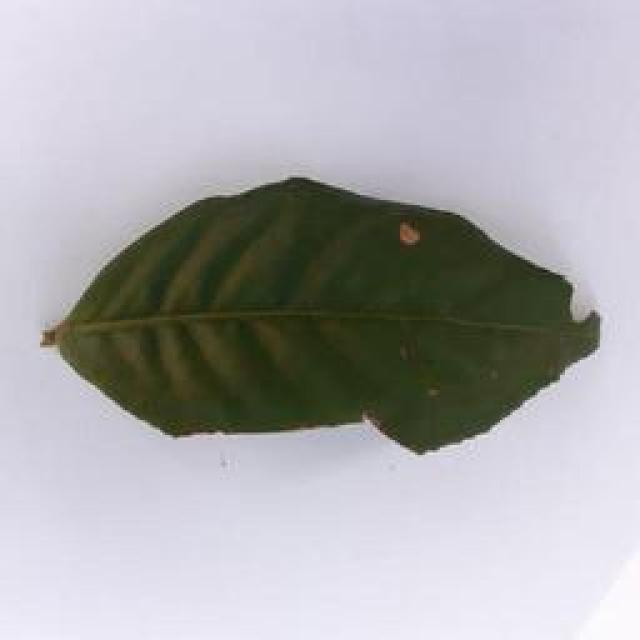Gray Blight: (29, 173, 604, 459)
